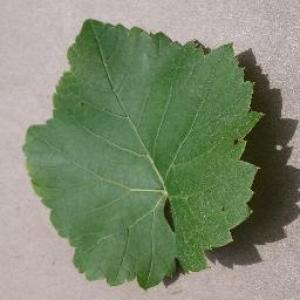Folha: (21, 18, 266, 290)
